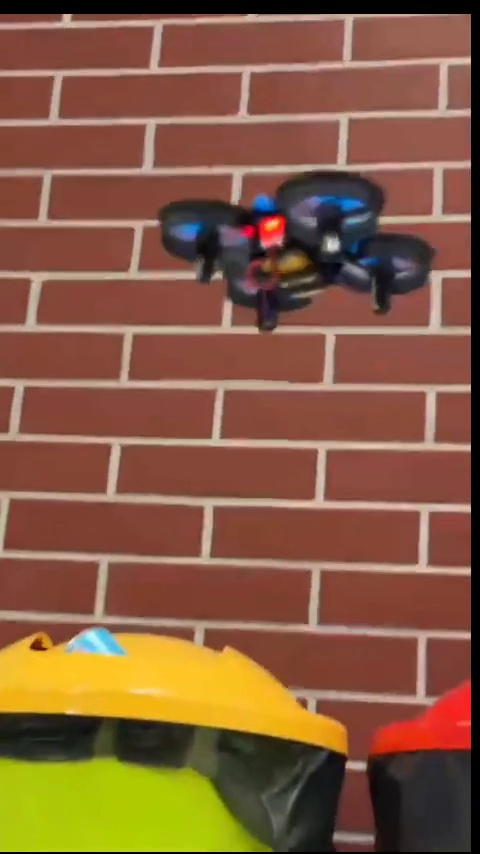drone: (156, 171, 437, 332)
